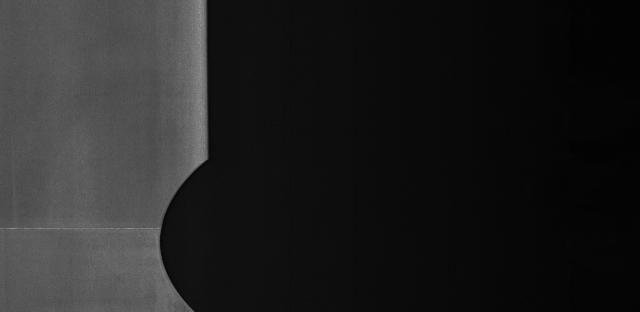welding_line: (2, 216, 168, 239)
